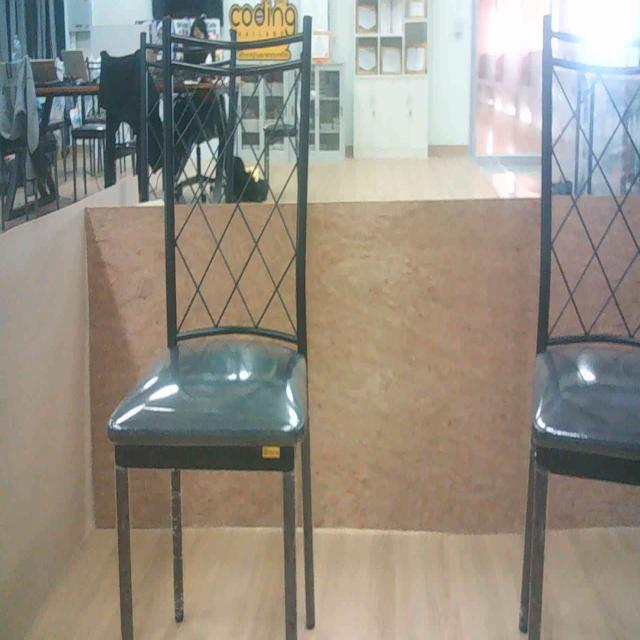emtpy: (133, 46, 310, 640), (522, 0, 640, 640)
